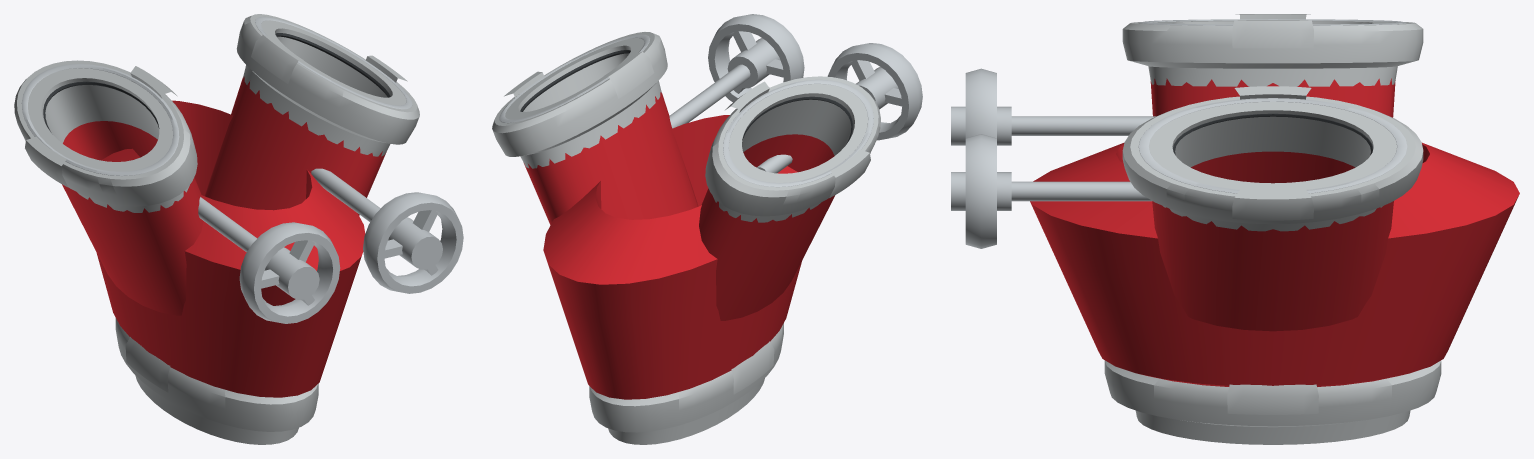
The model's file is ob_divider_g5.glb.
3 views of the same model, side by side, from view 1: azimuth 30°, elevation 25°; view 2: azimuth 150°, elevation 25°; view 3: azimuth 270°, elevation 25° (orthographic). The views are drawn at different scales.
Parts seen in each view (by area): view 1: ob_divider_g5; view 2: ob_divider_g5; view 3: ob_divider_g5.
Boxes of the visible parts, box(x1,y1,x2,y2) form: ob_divider_g5: box(14, 14, 463, 444); ob_divider_g5: box(492, 14, 922, 444); ob_divider_g5: box(951, 14, 1519, 444).
Size of the model in its own units: 0.34 by 0.31 by 0.44.
